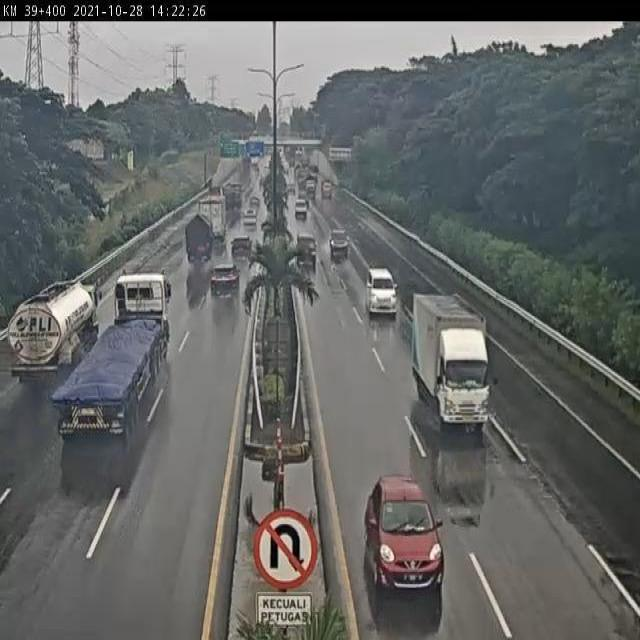big truck: (105, 270, 171, 402), (195, 182, 230, 242)
car: (361, 480, 447, 599), (366, 272, 401, 323), (208, 264, 238, 301), (325, 219, 351, 252), (230, 235, 258, 264), (240, 205, 263, 235), (297, 231, 318, 261), (290, 197, 312, 223), (247, 198, 260, 218)
small truck: (411, 283, 506, 432), (18, 275, 102, 352), (176, 217, 212, 276)
